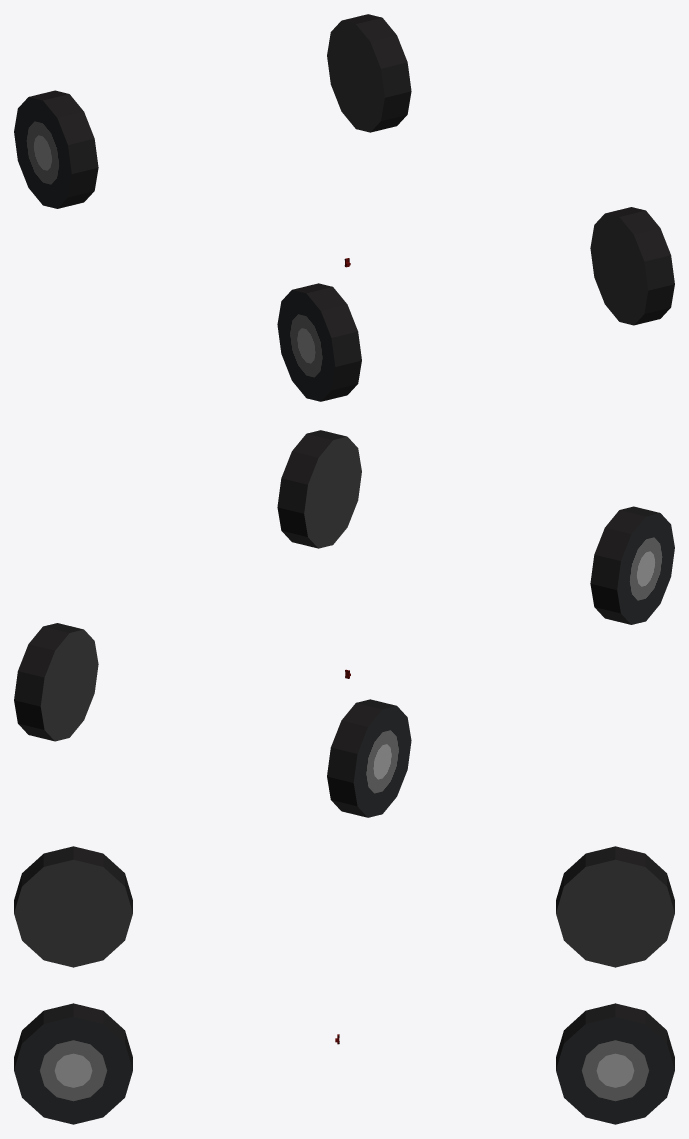
The picture shows the model from 3 angles, top to bottom: view 1: azimuth 30°, elevation 25°; view 2: azimuth 150°, elevation 25°; view 3: azimuth 270°, elevation 25°; orthographic projection. The views are drawn at different scales.
Parts seen in each view (by area): view 1: Wheel_fr, Wheel_rl, Wheel_fl, Wheel_rr; view 2: Wheel_fl, Wheel_rr, Wheel_fr, Wheel_rl; view 3: Wheel_fl, Wheel_fr, Wheel_rl, Wheel_rr.
Boxes of the visible parts, left/top/right/bottom form: Wheel_fr: left=277, top=283, right=361, bottom=401; Wheel_rl: left=327, top=14, right=411, bottom=132; Wheel_fl: left=590, top=207, right=674, bottom=325; Wheel_rr: left=14, top=90, right=98, bottom=208; Wheel_fl: left=277, top=430, right=361, bottom=548; Wheel_rr: left=327, top=699, right=411, bottom=817; Wheel_fr: left=590, top=506, right=674, bottom=624; Wheel_rl: left=14, top=623, right=98, bottom=741; Wheel_fl: left=14, top=1003, right=132, bottom=1124; Wheel_fr: left=14, top=846, right=132, bottom=967; Wheel_rl: left=556, top=1003, right=674, bottom=1124; Wheel_rr: left=556, top=846, right=674, bottom=967.
Bounding box in the file's own units: 250 × 76.48 × 409.
Materials: 3 (1 with a texture image).
